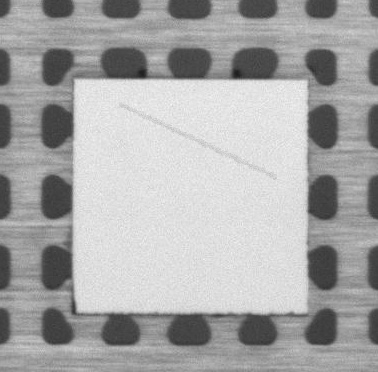DIE_CRACK: (123, 103, 279, 174)
